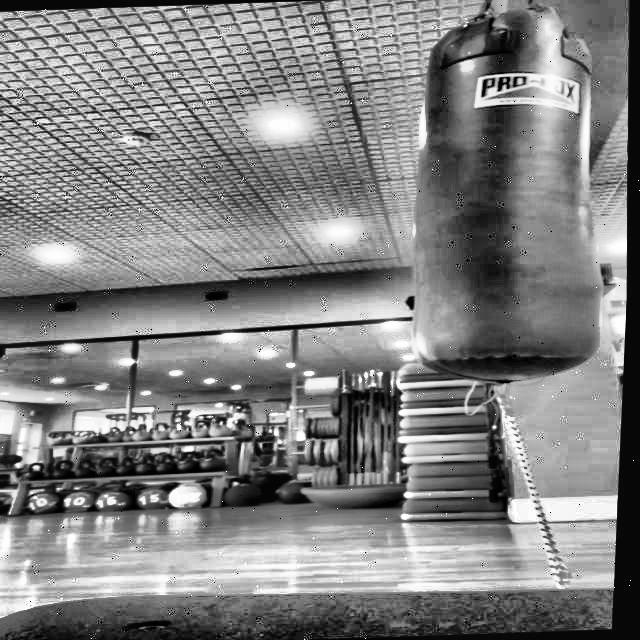boxing-bag: (407, 0, 613, 387)
